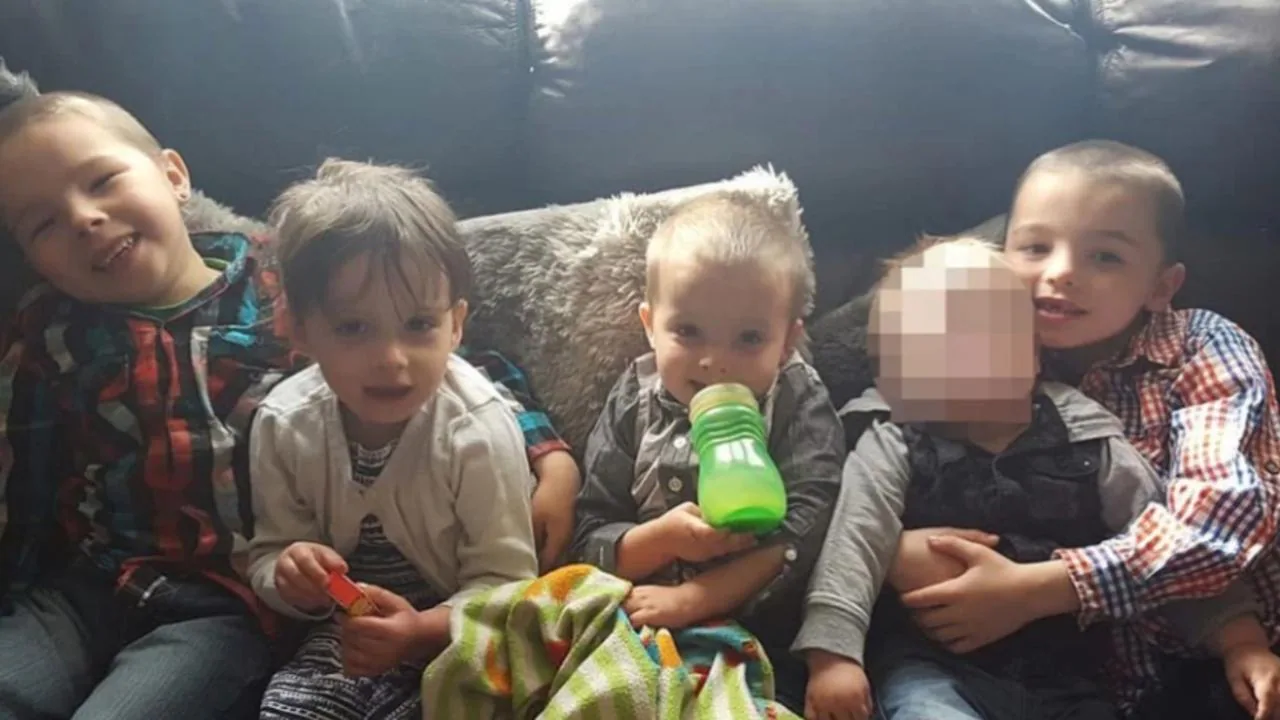human: (1, 64, 329, 720), (238, 136, 523, 720), (542, 187, 840, 678)
